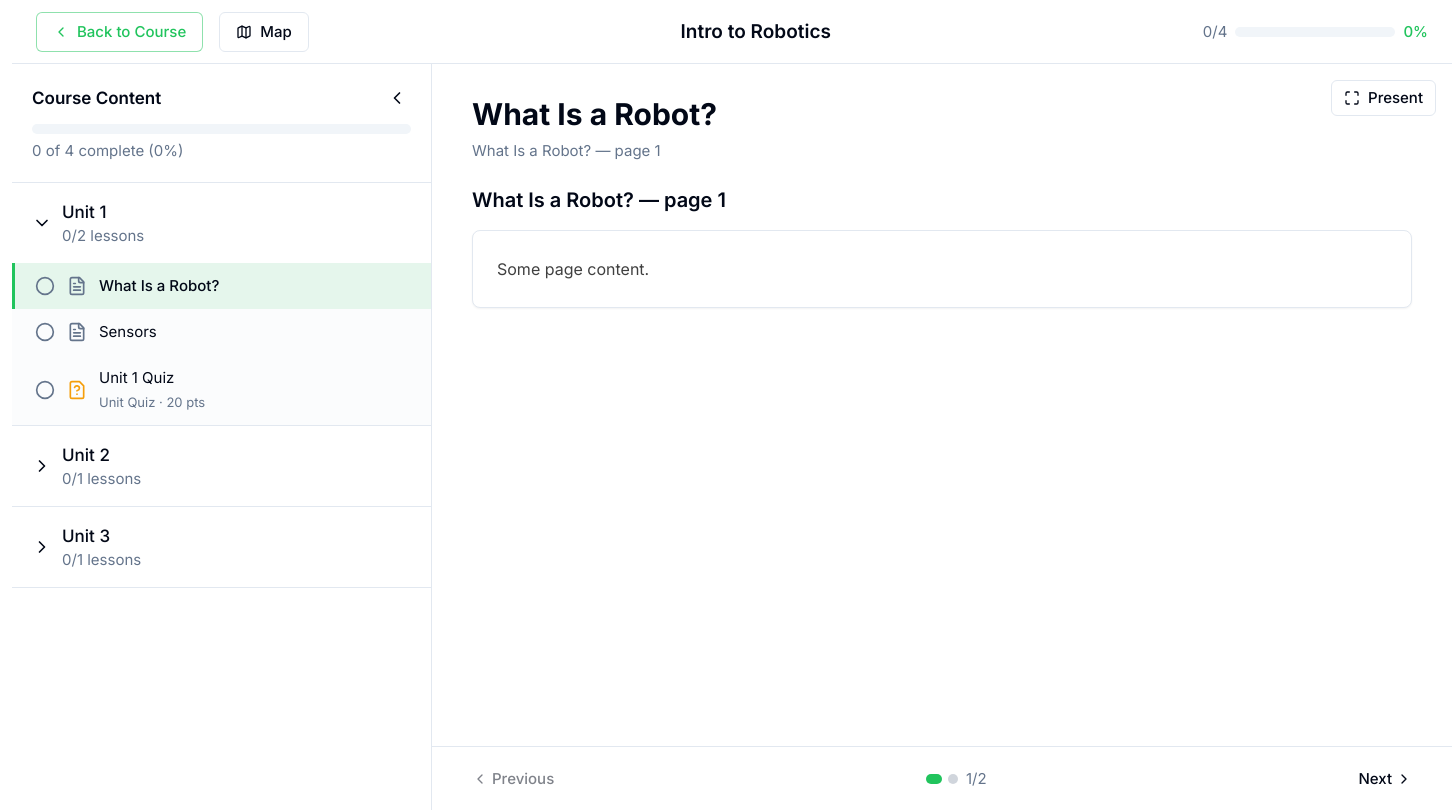
Test case: CoursePlayerPage — lesson transitions (phase 70) › opens the next lesson at page 1 even when its saved cursor is the quiz page
The image size is (1452, 810).
Check: the heading "What Is a Robot?" is shown, box [472,96,717,132]
Check: the text with test id "page-indicator" reads "1/2", box [966,768,987,790]
Click the button "Next". click: coordinates (1385, 778)
box: [1342,758,1428,798]
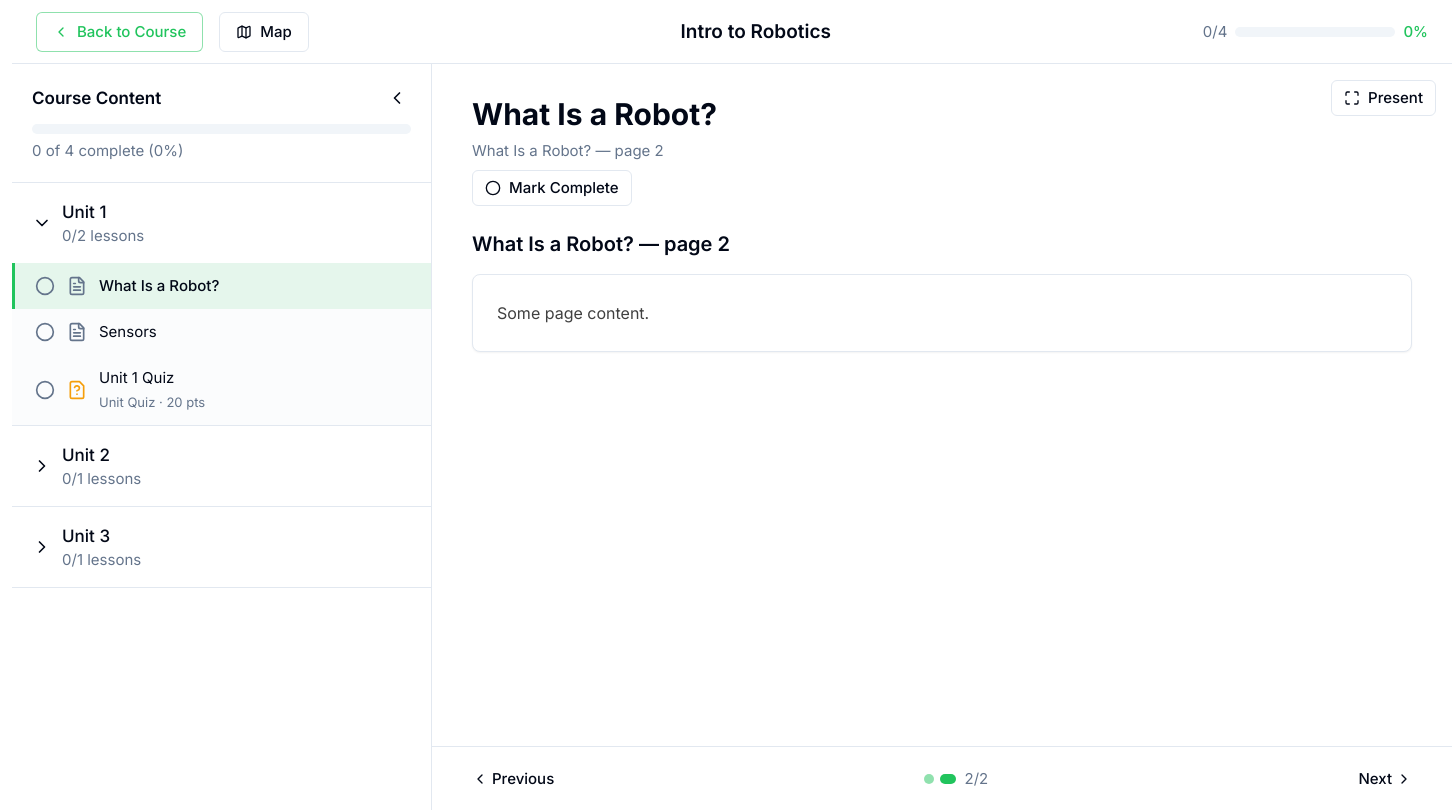
Check: the text with test id "page-indicator" reads "2/2", box [964,768,988,790]
Note: Last page of lesson 10 → Next crosses into lesson 11.
Click the button "Next". click: coordinates (1385, 778)
box: [1342,758,1428,798]
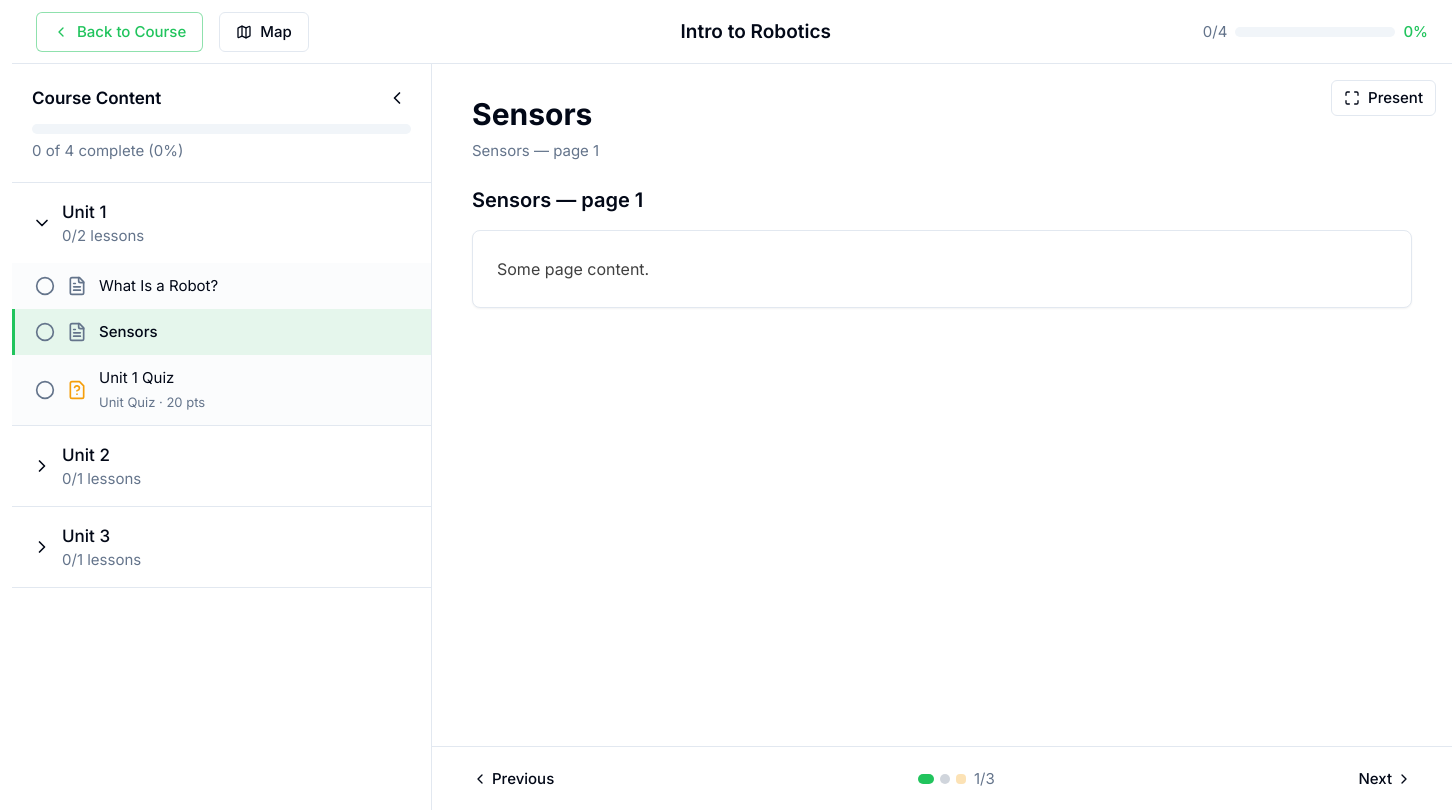
Check: the heading "Sensors" is shown, box [472,96,592,132]
Check: the text with test id "page-indicator" reads "1/3", box [974,768,995,790]
